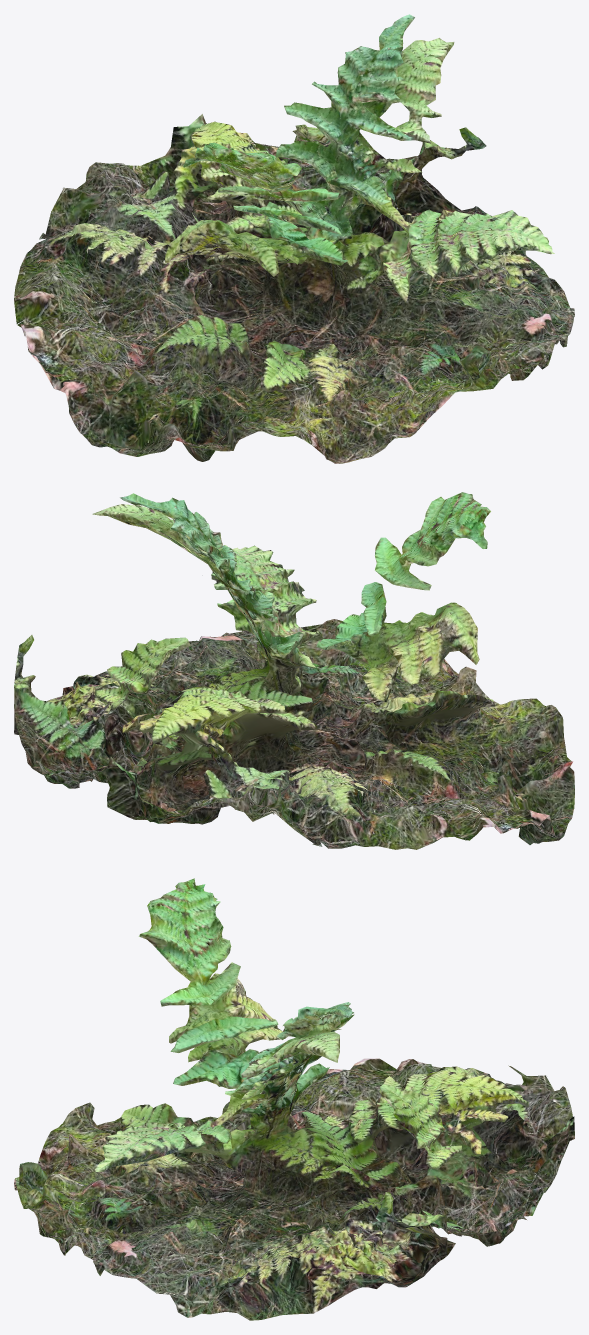
File: bracken.glb
3 renders of one model, top to bottom at view 1: azimuth 30°, elevation 25°; view 2: azimuth 150°, elevation 25°; view 3: azimuth 270°, elevation 25°, orthographic.
Parts seen in each view (by area): view 1: bracken; view 2: bracken; view 3: bracken.
Part boxes in pixels (left/top/right/bottom): bracken: left=14, top=14, right=574, bottom=463; bracken: left=14, top=492, right=574, bottom=849; bracken: left=14, top=878, right=574, bottom=1320.
Bounding box in the file's own units: 1 × 0.6074 × 0.9996.
1 material, 1 textured.
